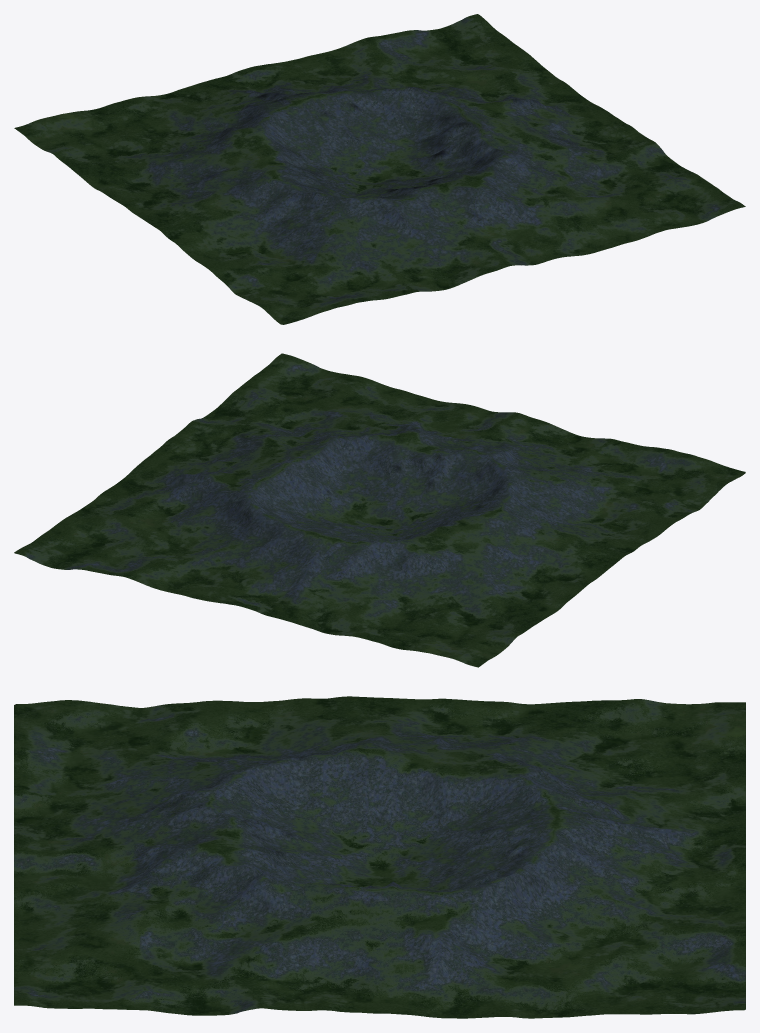
File: O_N_Crater.fbx
3 renders of one model, top to bottom at view 1: azimuth 30°, elevation 25°; view 2: azimuth 150°, elevation 25°; view 3: azimuth 270°, elevation 25°, orthographic. The views are drawn at different scales.
Visible parts, largest first — view 1: ALPHS Crater Mountains.001; view 2: ALPHS Crater Mountains.001; view 3: ALPHS Crater Mountains.001.
Boxes of the visible parts, x1,y1,x2,y2 form: ALPHS Crater Mountains.001: [14, 14, 745, 324]; ALPHS Crater Mountains.001: [14, 353, 745, 667]; ALPHS Crater Mountains.001: [14, 696, 745, 1018].
Size of the model in its own units: 455 by 34.31 by 455.
Materials: 1 (1 with a texture image).
